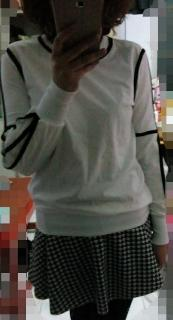long sleeve top: (0, 34, 170, 246)
skirt: (28, 209, 165, 315)
